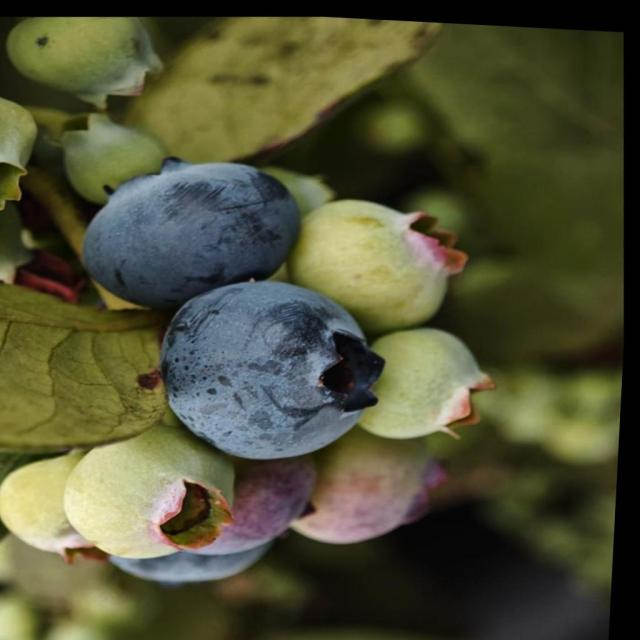RipeBlueBerry: (157, 270, 383, 464), (77, 148, 305, 296)
UnripeBlueBerry: (66, 428, 248, 566)
